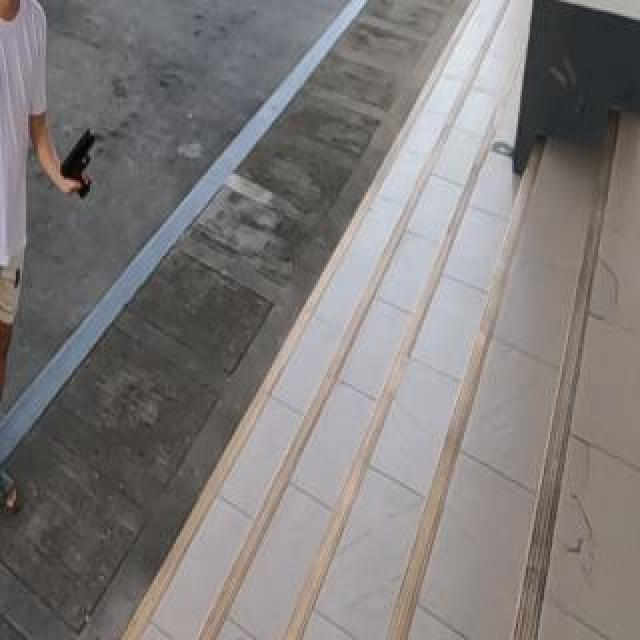Guns: (56, 126, 98, 202)
